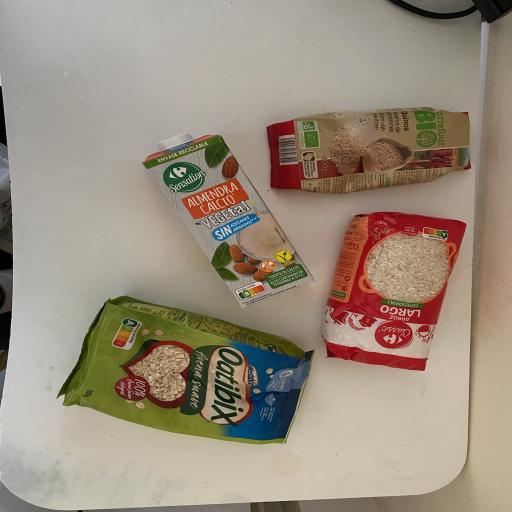almond_milk: (138, 129, 315, 311)
oats: (59, 294, 316, 454)
quinoa: (263, 108, 476, 194)
rice: (323, 210, 469, 371)
